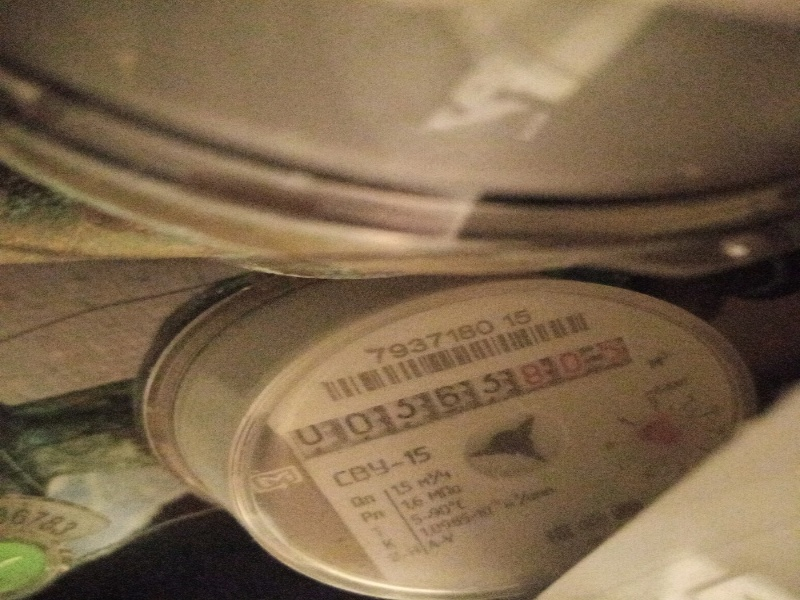meter: (274, 360, 638, 414)
